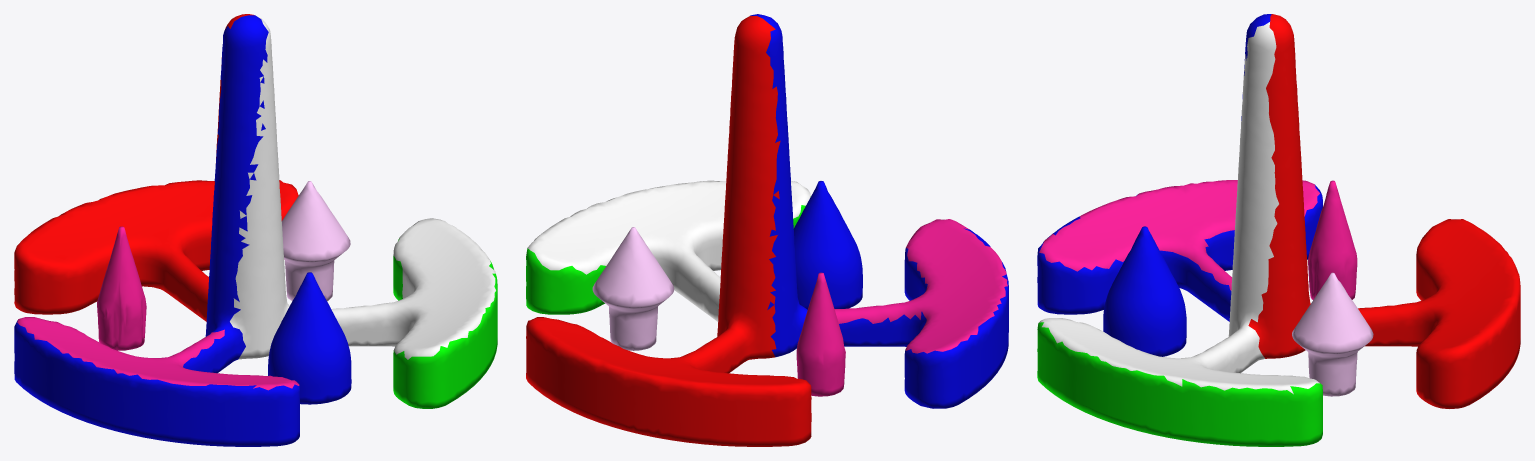
The model's file is model_17215_segmented.obj.
3 renders of one model, left to right at view 1: azimuth 30°, elevation 25°; view 2: azimuth 150°, elevation 25°; view 3: azimuth 270°, elevation 25°, orthographic.
Bounding box in the file's own units: 59.99 × 42.97 × 57.86.
